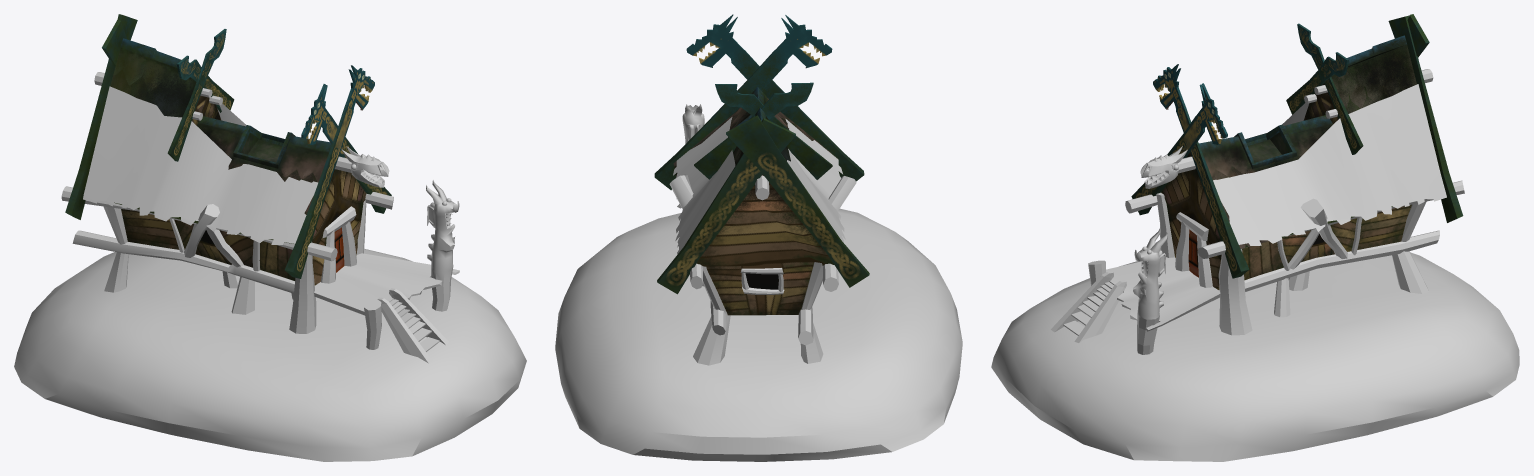
Rendered from Textured_VikingHouse_01.fbx.
3 renders of one model, left to right at view 1: azimuth 30°, elevation 25°; view 2: azimuth 150°, elevation 25°; view 3: azimuth 270°, elevation 25°, orthographic.
Parts seen in each view (by area): view 1: Ground, Roof_Moss, House, Dock, Roof_LeftFront_Deco, Log_08, Log_Decorated, Roof_LeftBack_Deco, Steps_Sides, Roof_RightFront_Deco, Log_02, Roof_LeftMid_Deco (+9 smaller); view 2: Ground, House, Roof_Moss, Roof_LeftBack_Deco, Roof_RightBack_Deco, Roof_RightFront_Deco, Roof_LeftFront_Deco, Roof_LeftMid_Deco, Roof_RightMid_Deco, Log_05, Log_04, Log_Decorated (+3 smaller); view 3: Ground, Roof_Moss, House, Dock, Roof_RightFront_Deco, Log_Decorated, Log_09, Roof_RightBack_Deco, Roof_LeftFront_Deco, Log_03, Steps_Sides, Log_05 (+8 smaller).
Boxes of the visible parts, x1,y1,x2,y2 form: Ground: (14, 249, 526, 461); Roof_Moss: (83, 86, 317, 244); House: (110, 38, 366, 285); Dock: (314, 253, 459, 315); Roof_LeftFront_Deco: (285, 65, 374, 278); Log_08: (72, 230, 294, 293); Log_Decorated: (426, 180, 459, 311); Roof_LeftBack_Deco: (65, 14, 137, 219); Steps_Sides: (377, 288, 448, 363); Roof_RightFront_Deco: (301, 84, 391, 213); Log_02: (289, 241, 316, 333); Roof_LeftMid_Deco: (167, 29, 226, 161); Ground: (555, 208, 962, 461); House: (673, 87, 837, 315); Roof_Moss: (673, 117, 845, 254); Roof_LeftBack_Deco: (726, 115, 869, 287); Roof_RightBack_Deco: (657, 118, 795, 294); Roof_RightFront_Deco: (654, 15, 832, 190); Roof_LeftFront_Deco: (686, 14, 864, 181); Roof_LeftMid_Deco: (715, 84, 832, 179); Roof_RightMid_Deco: (694, 82, 813, 179); Log_05: (693, 266, 730, 365); Log_04: (800, 262, 823, 363); Log_Decorated: (682, 104, 704, 143); Ground: (991, 252, 1519, 461); Roof_Moss: (1213, 84, 1446, 245); House: (1161, 35, 1416, 289); Dock: (1106, 257, 1220, 331); Roof_RightFront_Deco: (1153, 64, 1249, 278); Log_Decorated: (1133, 228, 1167, 354); Log_09: (1244, 230, 1439, 291); Roof_RightBack_Deco: (1388, 15, 1463, 222); Roof_LeftFront_Deco: (1131, 83, 1227, 215); Log_03: (1218, 249, 1252, 335); Steps_Sides: (1051, 271, 1126, 342); Log_05: (1392, 201, 1428, 293).
Size of the model in its own units: 3100 by 2294 by 3431.
